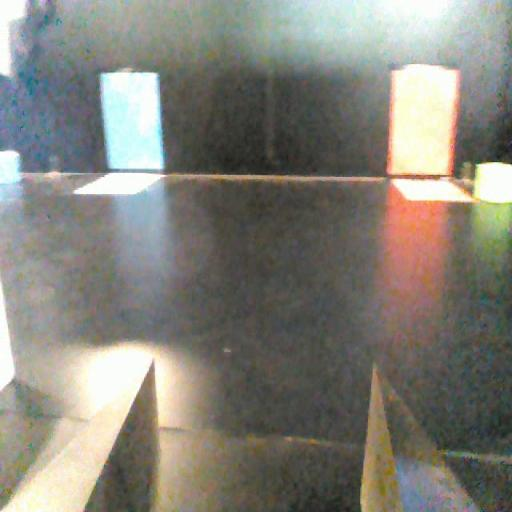cube: (470, 161, 512, 204), (1, 146, 22, 183)
